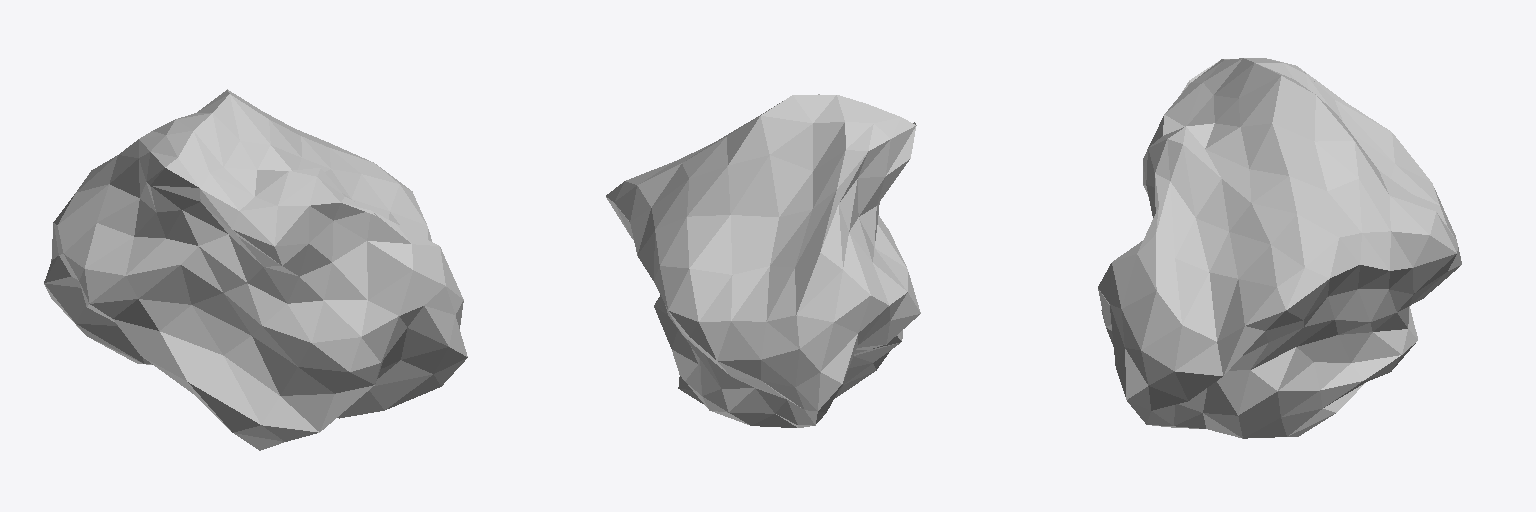
Rendered from asteroid27.obj.
3 renders of one model, left to right at view 1: azimuth 30°, elevation 25°; view 2: azimuth 150°, elevation 25°; view 3: azimuth 270°, elevation 25°, orthographic.
Parts seen in each view (by area): view 1: asteroid; view 2: asteroid; view 3: asteroid.
Boxes of the visible parts, box(x1,y1,x2,y2) form: asteroid: box(44, 89, 467, 450); asteroid: box(606, 94, 920, 427); asteroid: box(1098, 58, 1461, 438).
Bounding box in the file's own units: 51.56 × 51.77 × 50.97.